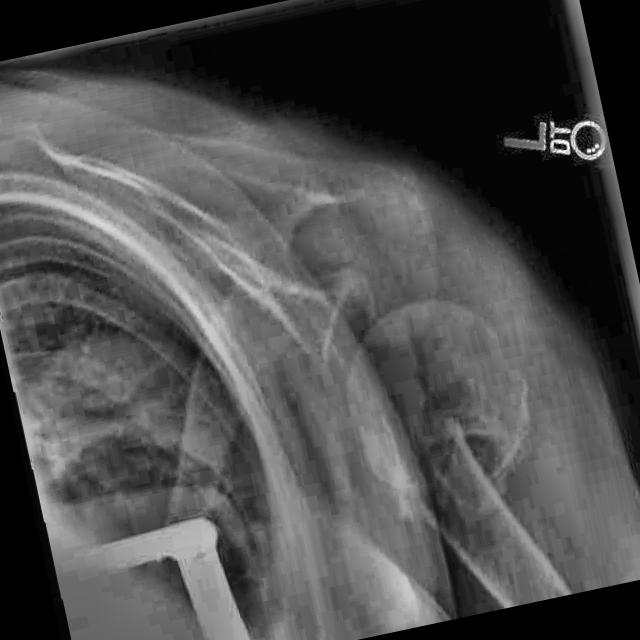shoulder fracture: (419, 387, 543, 526)
